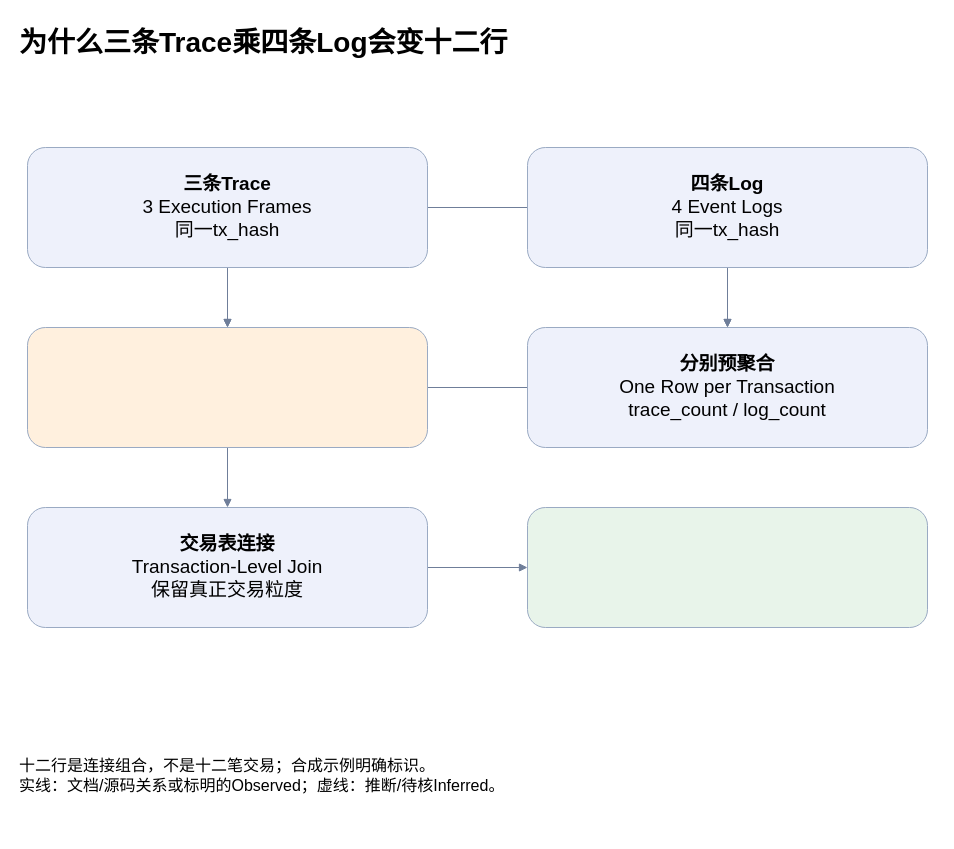
Some shapes in this 954 by 849 pixel diagram are drawn without their labels. Each missing label, with the centre of its shape:
"校验 Counts + Amount Conservation 不是SUM DISTINCT补救" goes at (727,567).
"直接连接 3 × 4 = 12 Rows 费用会被重复" goes at (227,387).
